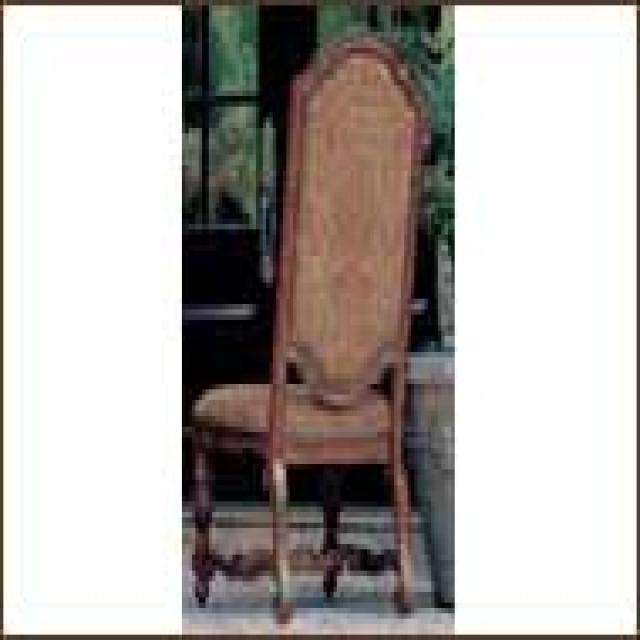chair: (189, 26, 431, 618)
